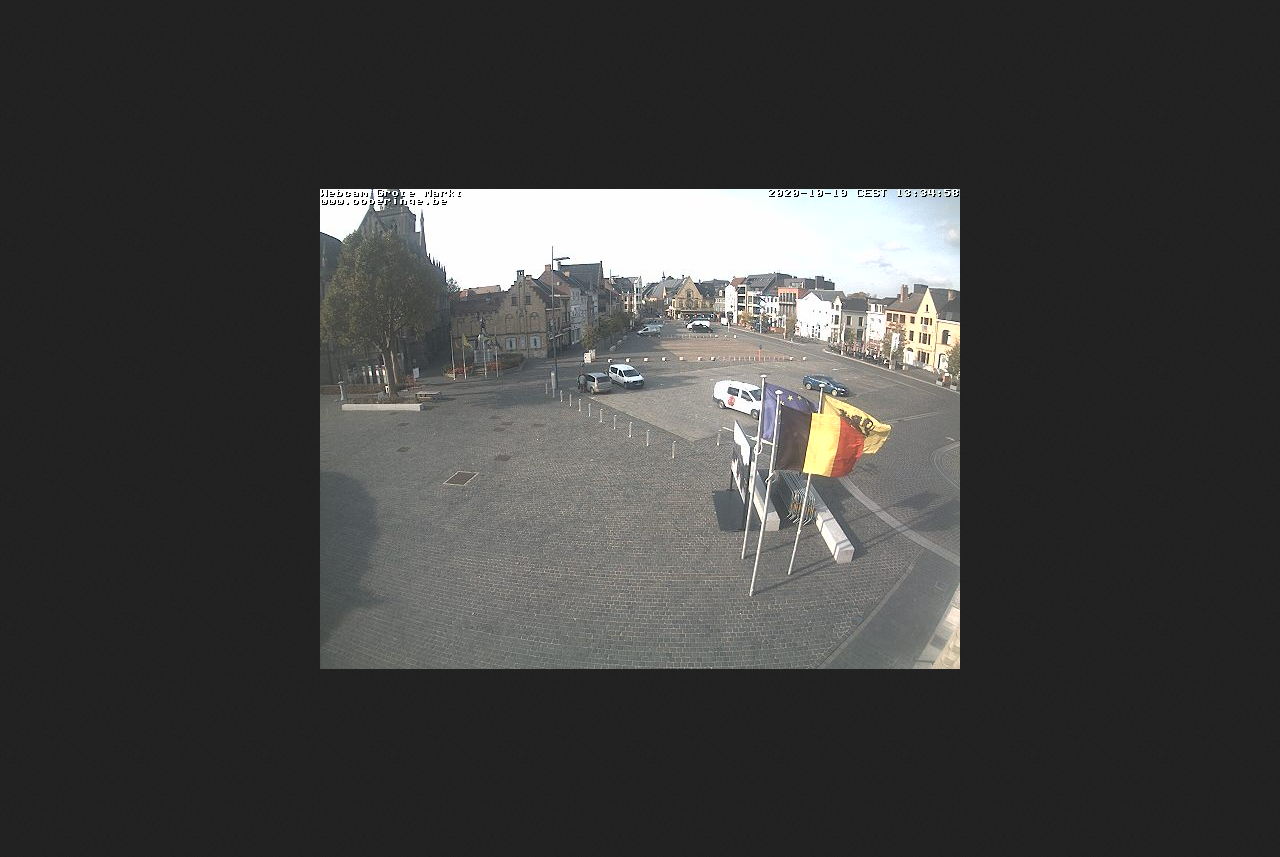no: (460, 327, 473, 350), (484, 330, 495, 354), (448, 330, 460, 350), (494, 333, 505, 354)
yes: (777, 407, 865, 478), (820, 390, 887, 456), (761, 378, 820, 449)
